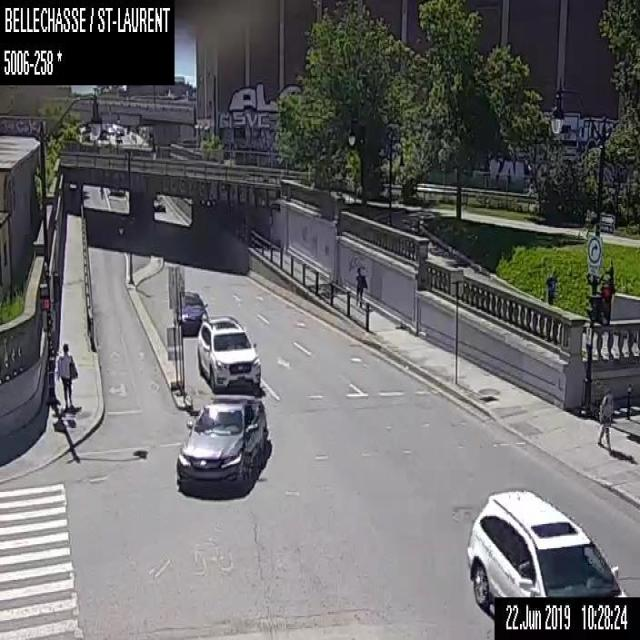pedestrian: (56, 342, 78, 409), (595, 388, 613, 452), (355, 267, 367, 307), (545, 275, 557, 304)
vehicle: (466, 489, 626, 620), (175, 394, 268, 495), (197, 315, 260, 391), (172, 290, 208, 332), (153, 195, 165, 211)
